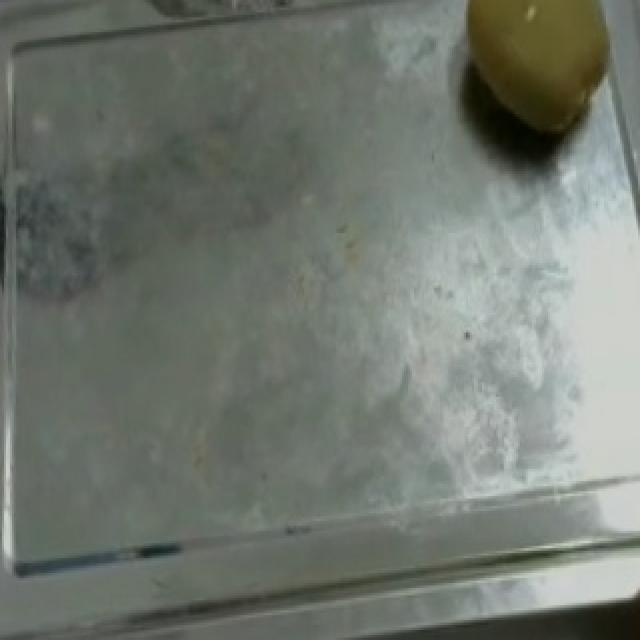Fruit: (432, 0, 638, 166)
